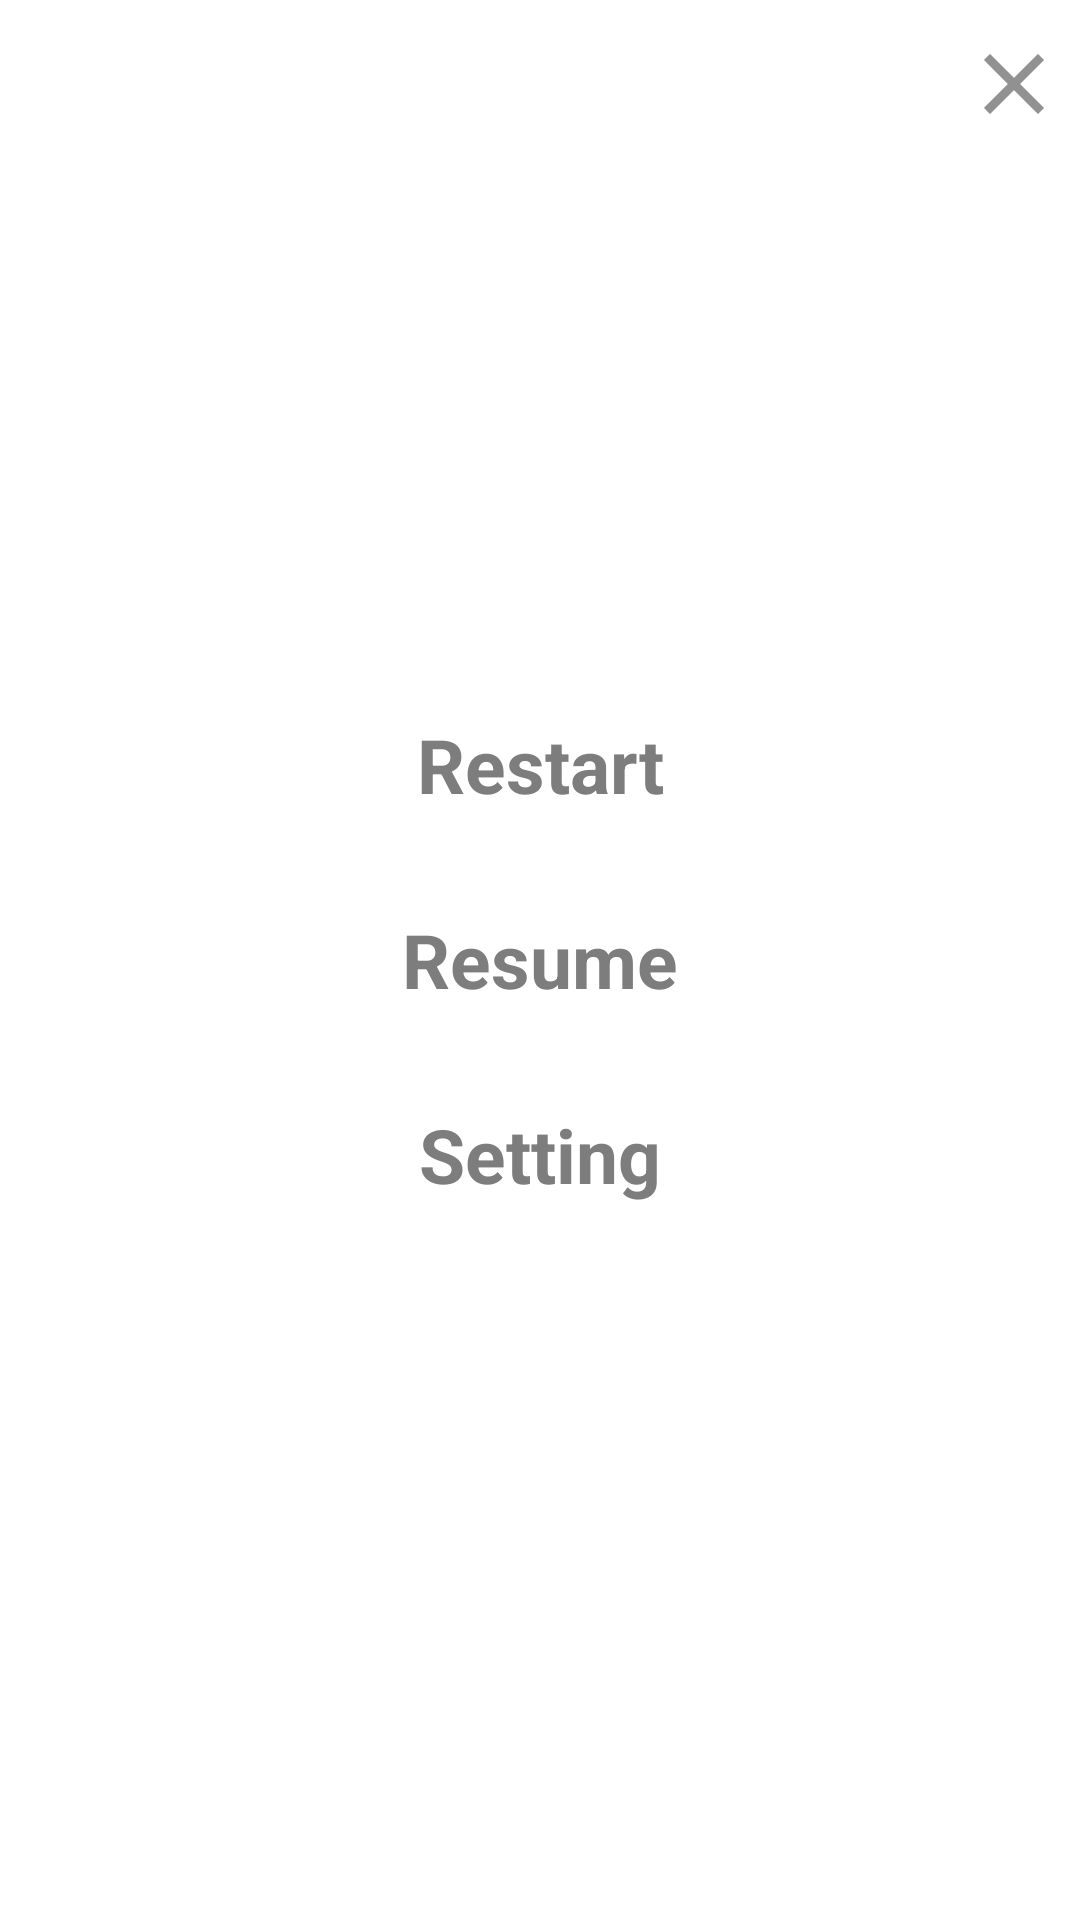

Named icons in this screenshot (1080×1920) and their bounding boxes, bbox=(x1, y1, x2, y2):
close: bbox=(984, 54, 1044, 114)
